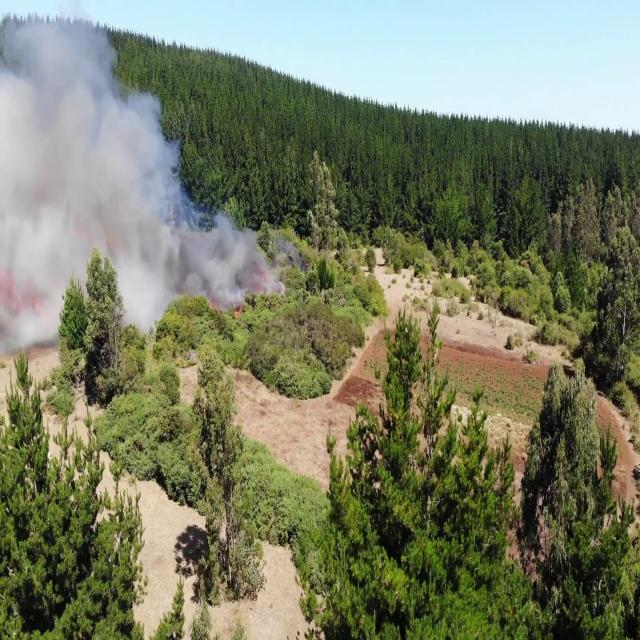Smoke: (0, 3, 153, 361), (154, 188, 276, 310)
